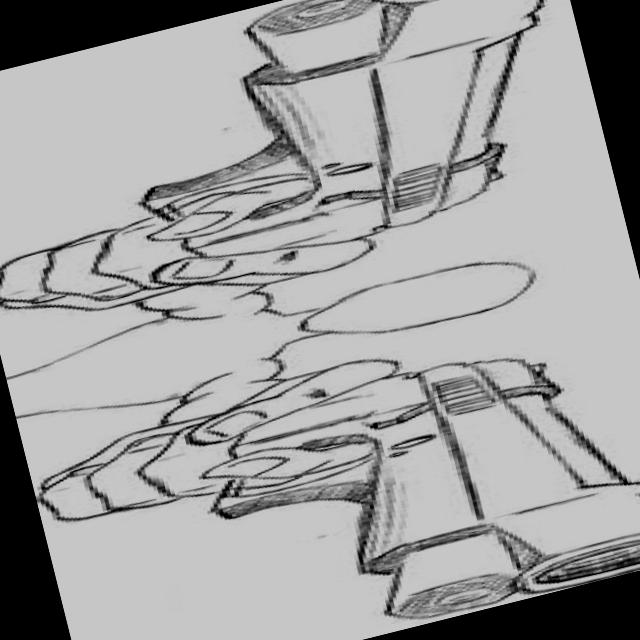handgun: (96, 308, 639, 639)
